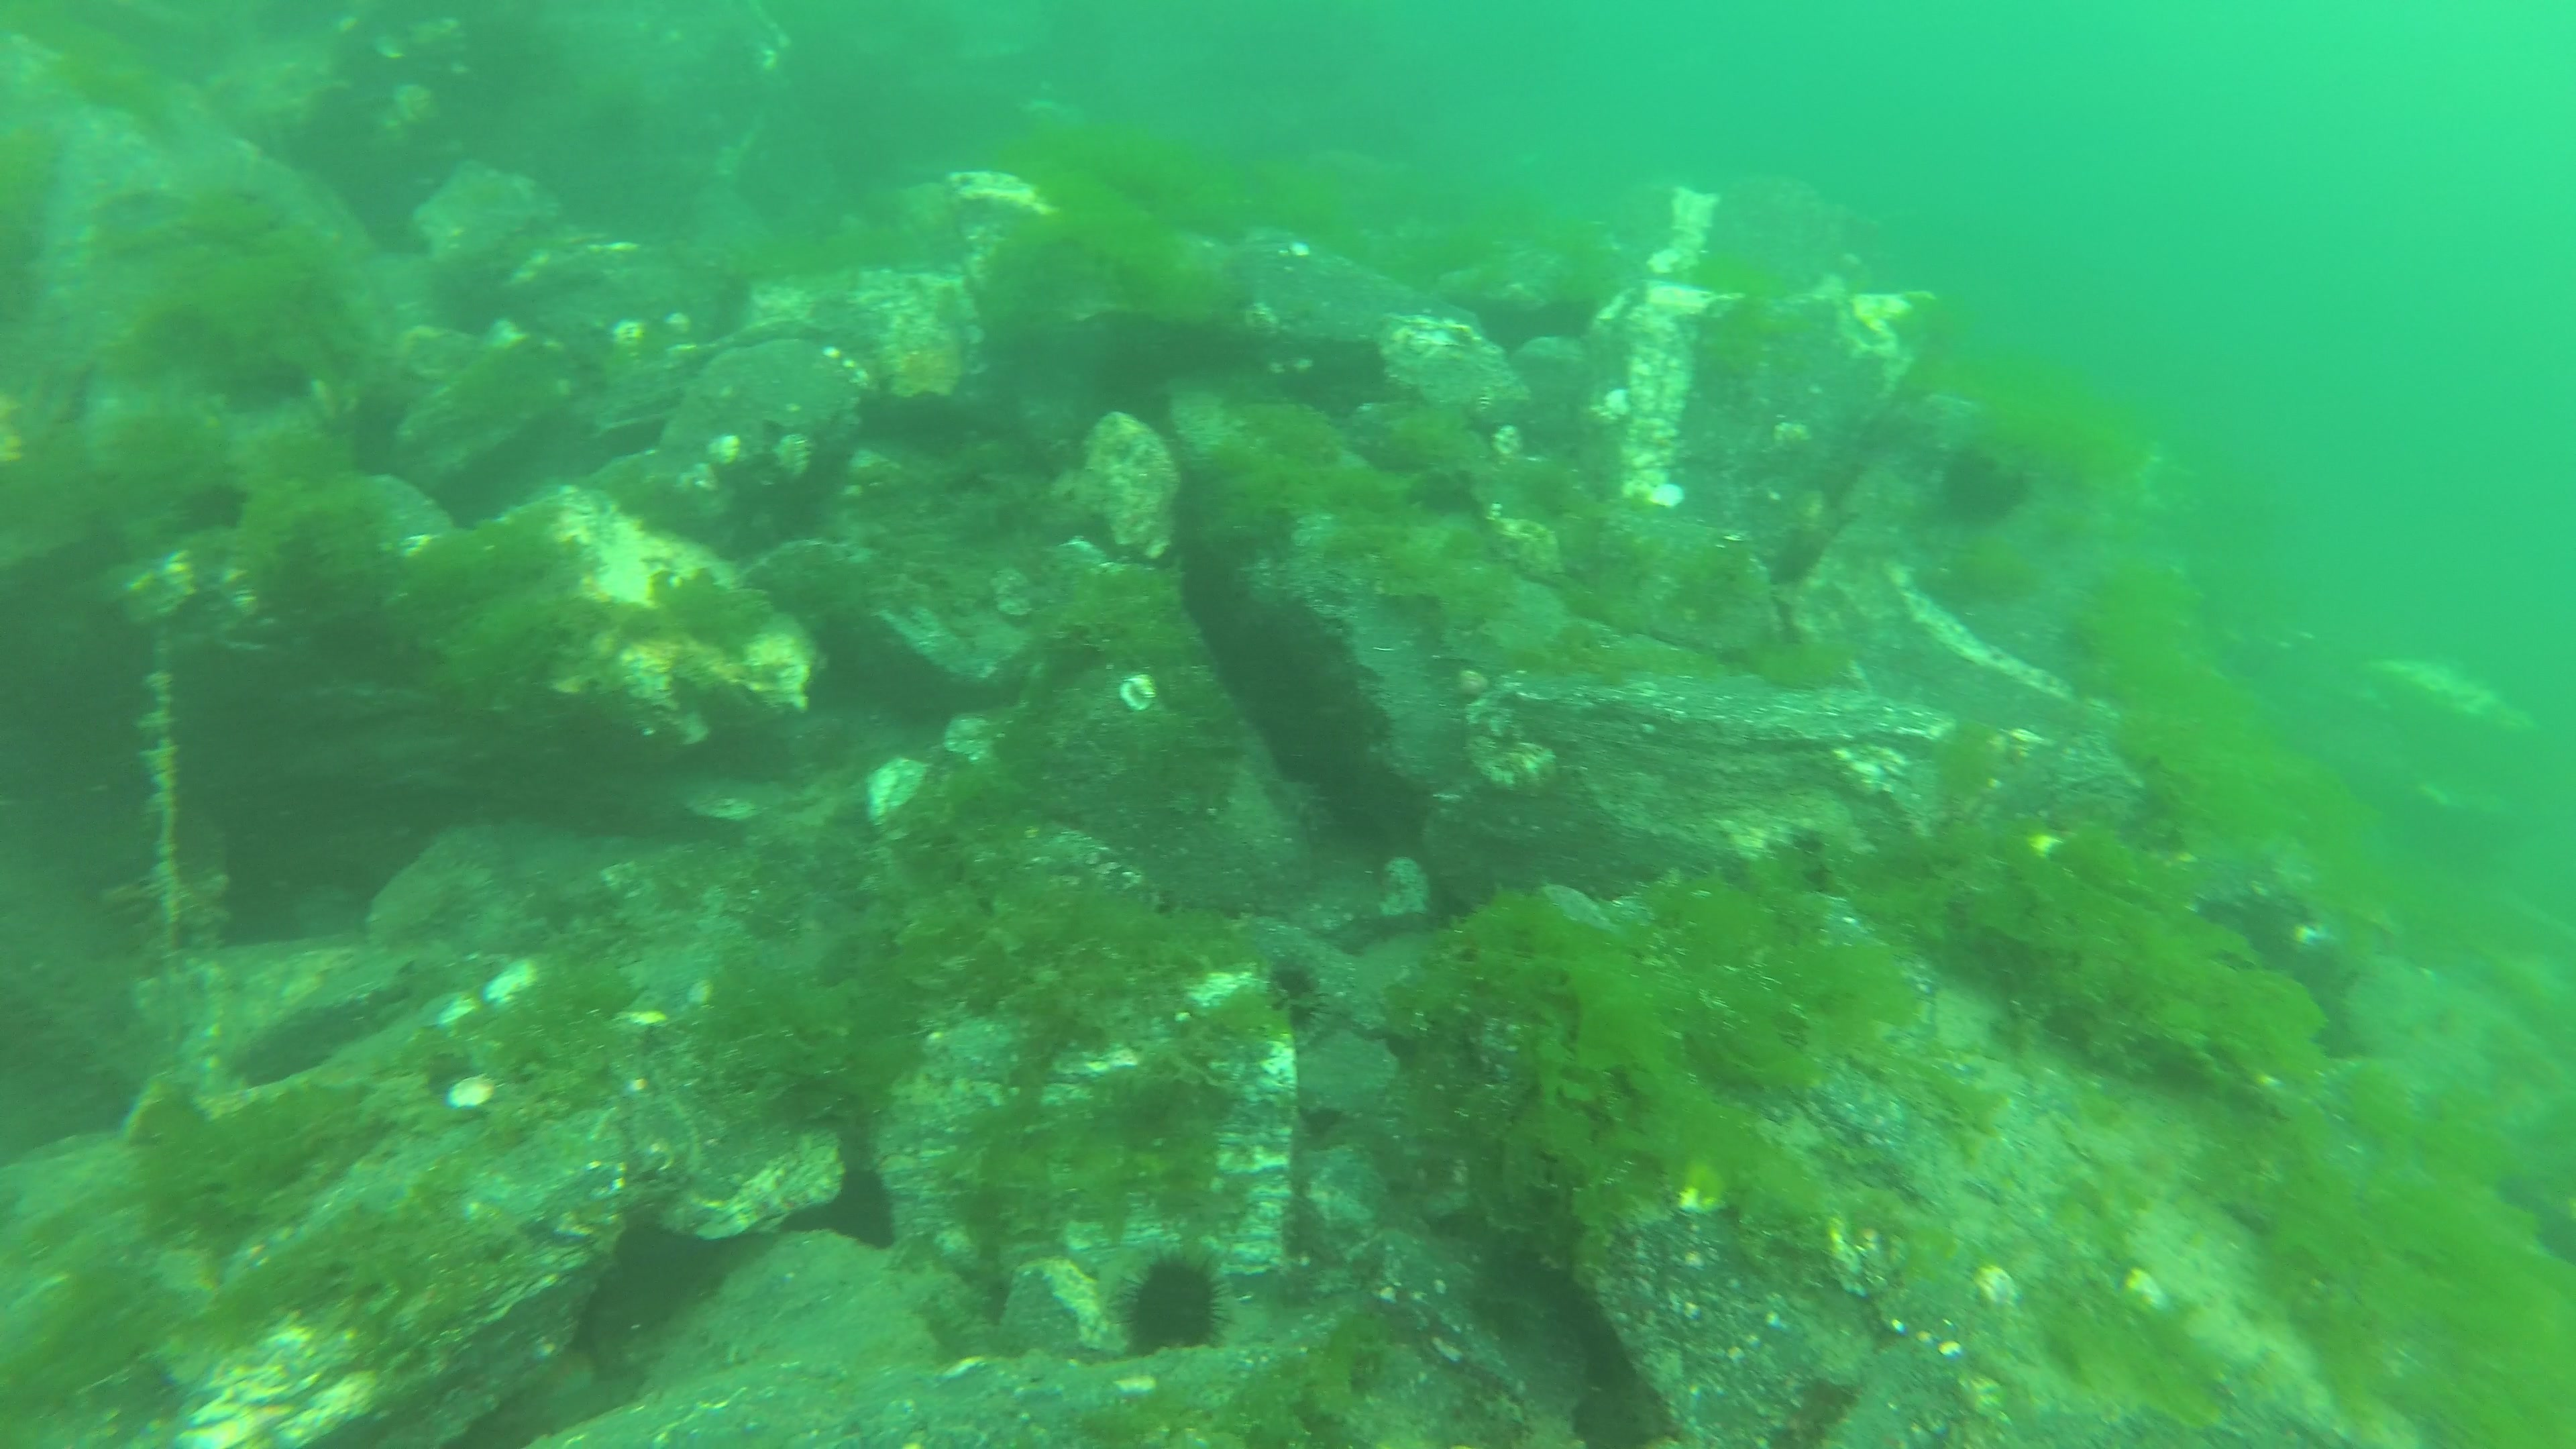echinus: (1122, 1254, 1226, 1357), (1322, 750, 1421, 853), (1937, 442, 2019, 534), (1265, 966, 1327, 1030), (180, 488, 244, 531)
